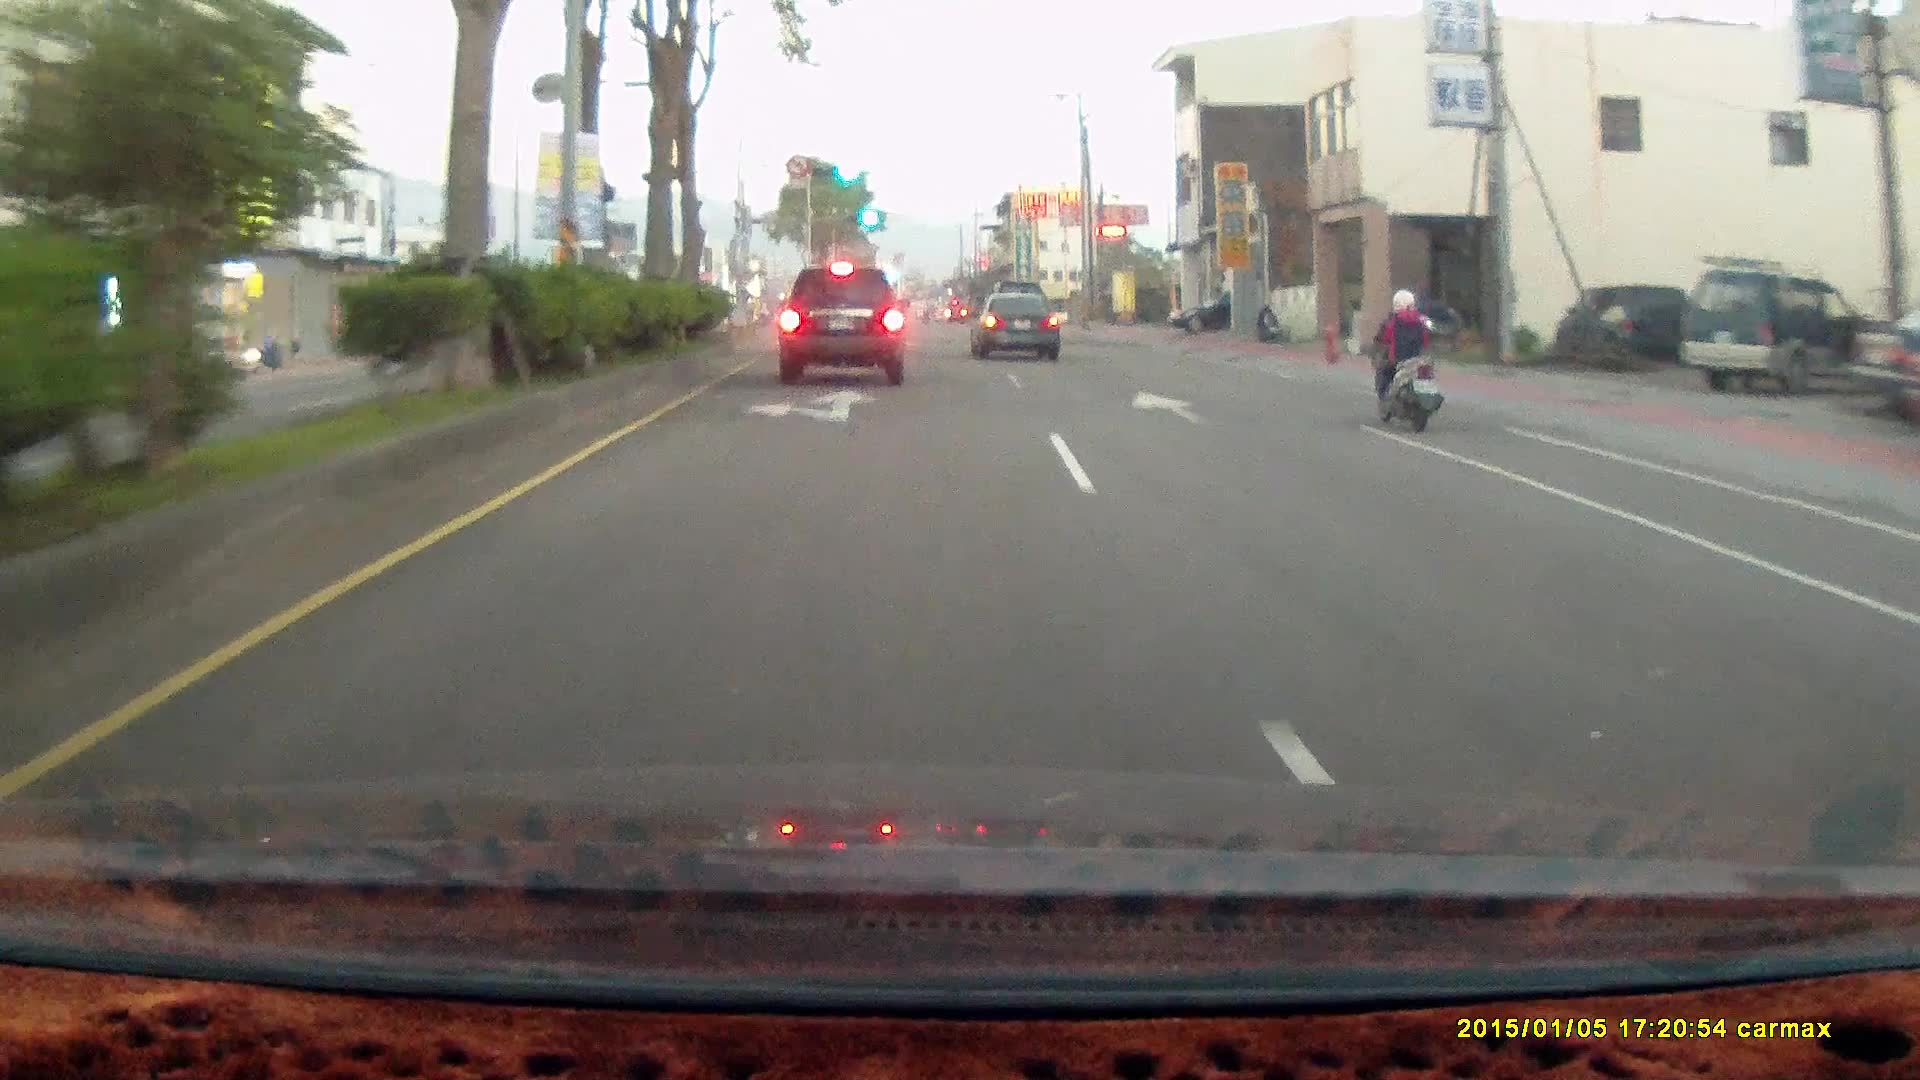rider: (1352, 273, 1459, 443), (1365, 284, 1443, 428)
vehicle: (1676, 269, 1885, 396), (1685, 272, 1866, 397), (777, 255, 912, 379), (777, 265, 909, 385), (1557, 281, 1689, 371), (1556, 284, 1690, 369), (969, 292, 1064, 363), (972, 291, 1058, 356), (1168, 290, 1274, 334), (1167, 289, 1235, 338)
